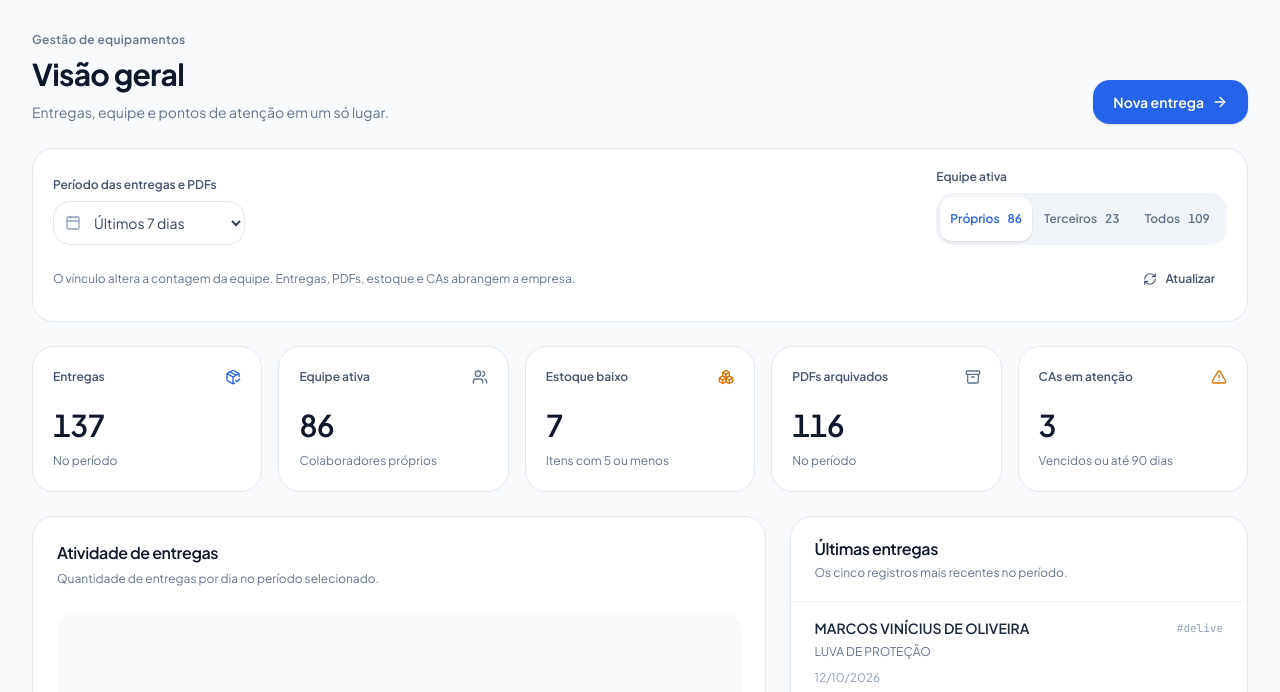
Test case: DashboardOverview › retains previously loaded values when a refresh fails
Expected: the text "137" is shown, [53,406,105,444]
Step 1. Click the button "Atualizar" → (1179, 279), box [1131,257,1227,301]
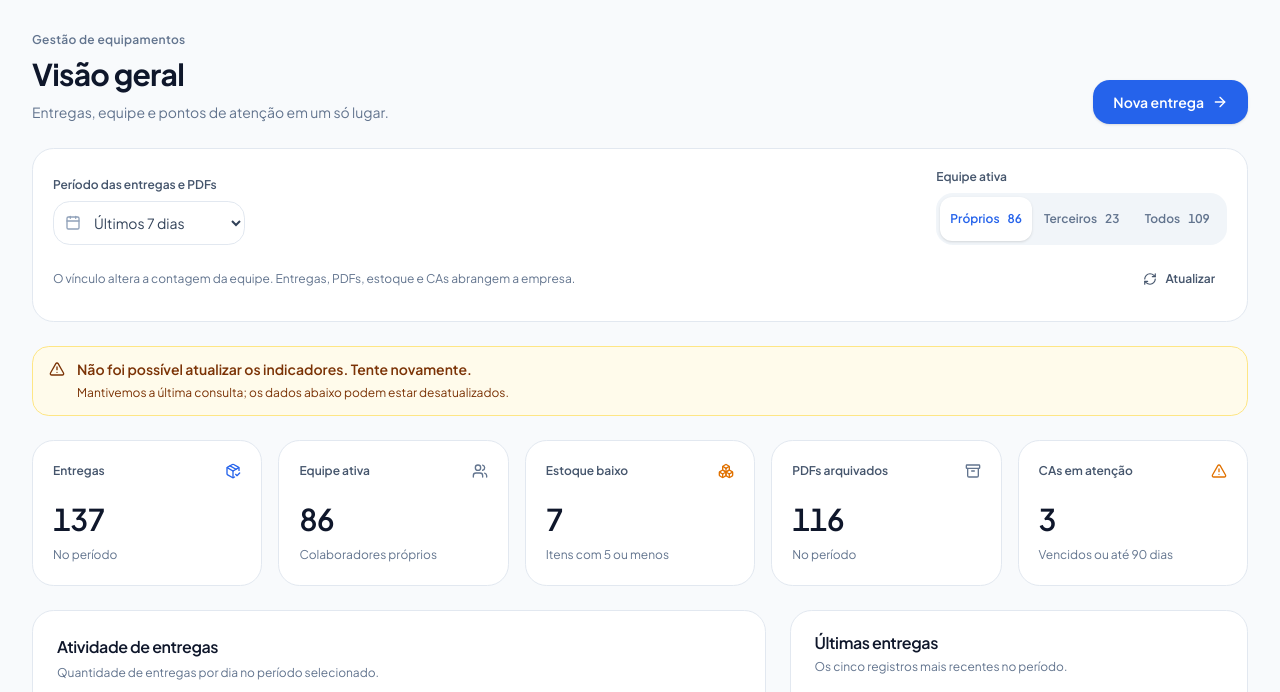
Expected: the text "137" is shown, [53,500,105,538]
Now the message shows "Mantivemos a última consulta", box [77,385,509,400]
